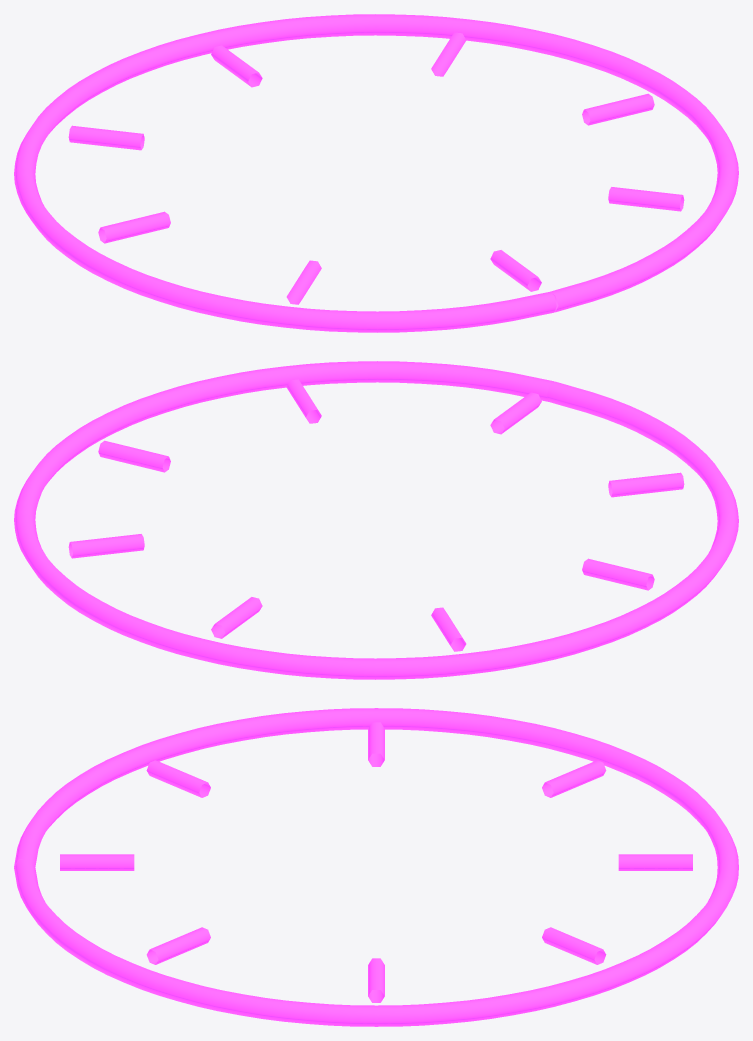
Rendered from status-3-refined-v15.fbx.
3 views of the same model, one above another, from view 1: azimuth 30°, elevation 25°; view 2: azimuth 150°, elevation 25°; view 3: azimuth 270°, elevation 25° (orthographic).
Visible parts, largest first — view 1: AreaRune.009, RuneDash.029, RuneDash.025, RuneDash.026, RuneDash.030, RuneDash.028, RuneDash.024, RuneDash.031, RuneDash.027; view 2: AreaRune.009, RuneDash.031, RuneDash.027, RuneDash.026, RuneDash.030, RuneDash.024, RuneDash.028, RuneDash.029, RuneDash.025; view 3: AreaRune.009, RuneDash.024, RuneDash.028, RuneDash.025, RuneDash.031, RuneDash.027, RuneDash.029, RuneDash.026, RuneDash.030.
Boxes of the visible parts, x1,y1,x2,y2 form: AreaRune.009: (14,14,738,332); RuneDash.029: (68,125,144,150); RuneDash.025: (608,187,684,211); RuneDash.026: (582,93,654,125); RuneDash.030: (98,211,170,243); RuneDash.028: (211,45,262,87); RuneDash.024: (490,250,541,291); RuneDash.031: (286,260,321,304); RuneDash.027: (431,32,466,76); AreaRune.009: (14,361,738,679); RuneDash.031: (608,472,684,497); RuneDash.027: (68,534,144,558); RuneDash.026: (98,440,170,472); RuneDash.030: (582,558,654,590); RuneDash.024: (490,392,541,434); RuneDash.028: (211,597,262,638); RuneDash.029: (431,607,466,651); RuneDash.025: (286,379,321,423); AreaRune.009: (14,708,738,1026); RuneDash.024: (60,854,134,870); RuneDash.028: (618,854,692,870); RuneDash.025: (146,927,210,964); RuneDash.031: (146,760,210,797); RuneDash.027: (542,927,606,964); RuneDash.029: (542,760,606,797); RuneDash.026: (368,958,384,1002); RuneDash.030: (368,722,384,766).
Bounding box in the file's own units: 94.8 × 2.87 × 94.79.
